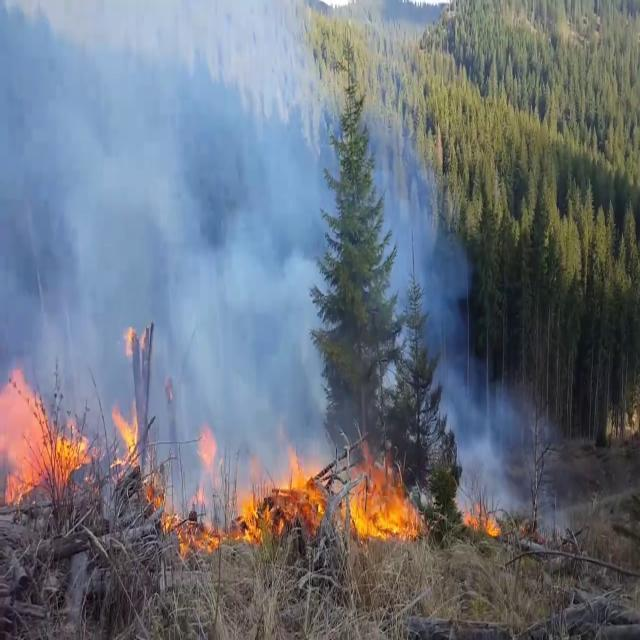Fire: (173, 414, 342, 556), (0, 364, 89, 498), (342, 449, 425, 546), (112, 399, 150, 491), (461, 488, 504, 542)
Smoke: (0, 1, 464, 512), (392, 160, 548, 540), (434, 345, 562, 544)
